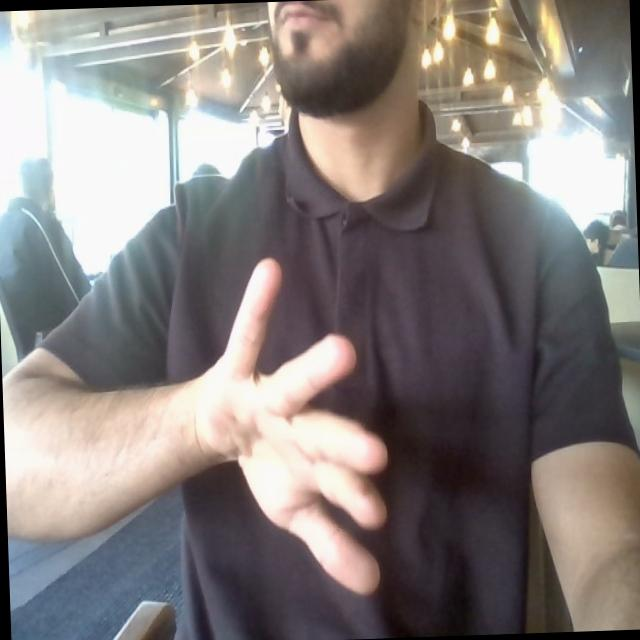Hand: (196, 260, 386, 593)
